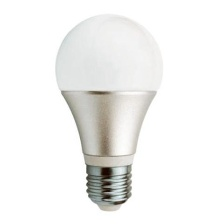light_bulb: (51, 8, 165, 213)
